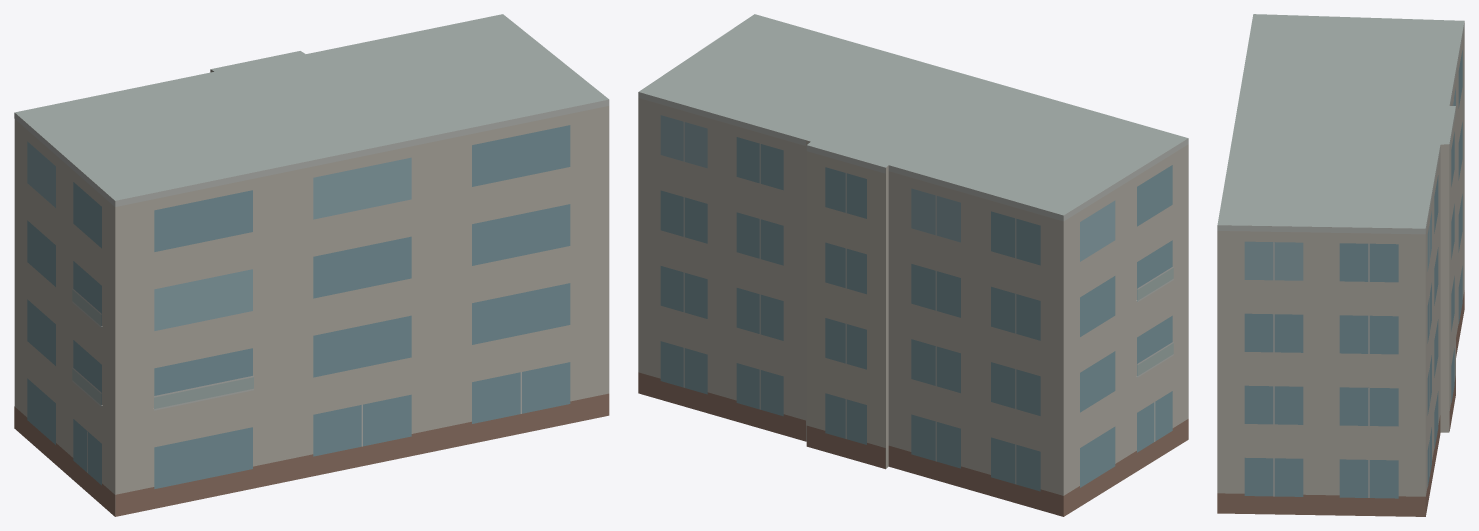
The model's file is survey-upis-32535639.glb.
3 renders of one model, left to right at view 1: azimuth 30°, elevation 25°; view 2: azimuth 150°, elevation 25°; view 3: azimuth 270°, elevation 25°, orthographic. The views are drawn at different scales.
Visible parts, largest first — view 1: survey-upis-32535639.tmp; view 2: survey-upis-32535639.tmp; view 3: survey-upis-32535639.tmp.
Boxes of the visible parts, bbox=[...] form: survey-upis-32535639.tmp: bbox=[14, 14, 609, 516]; survey-upis-32535639.tmp: bbox=[638, 14, 1188, 516]; survey-upis-32535639.tmp: bbox=[1217, 14, 1464, 516].
Size of the model in its own units: 19.66 by 12.3 by 9.57.
